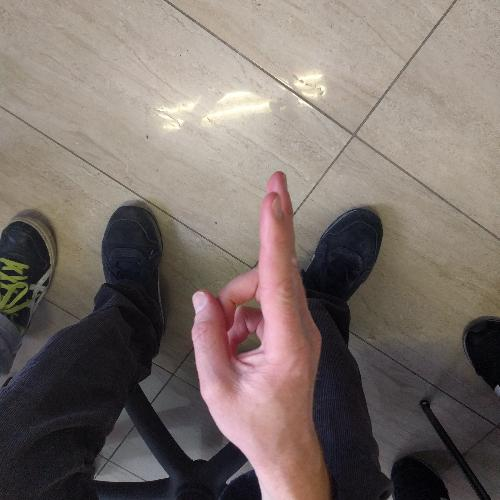scissors: (186, 161, 330, 454)
